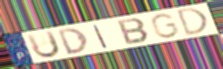B: (116, 17, 152, 46)
D: (176, 7, 211, 38), (56, 26, 90, 56)
G: (149, 12, 181, 39)
I: (92, 23, 110, 49)
U: (25, 29, 62, 59)
